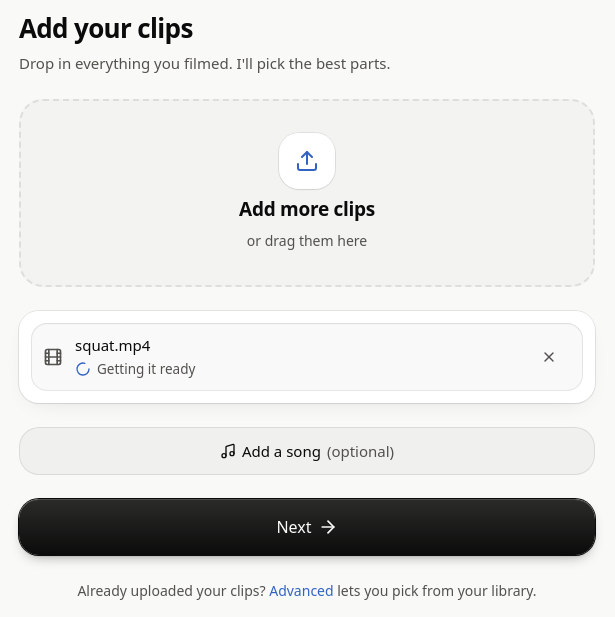
Test: with a learnt style, 'My usual style' says it follows the creator's own videos
Earlier steps of the test are not shown.
Click the button "Next" at x=307, y=526, box [19,498,595,554]
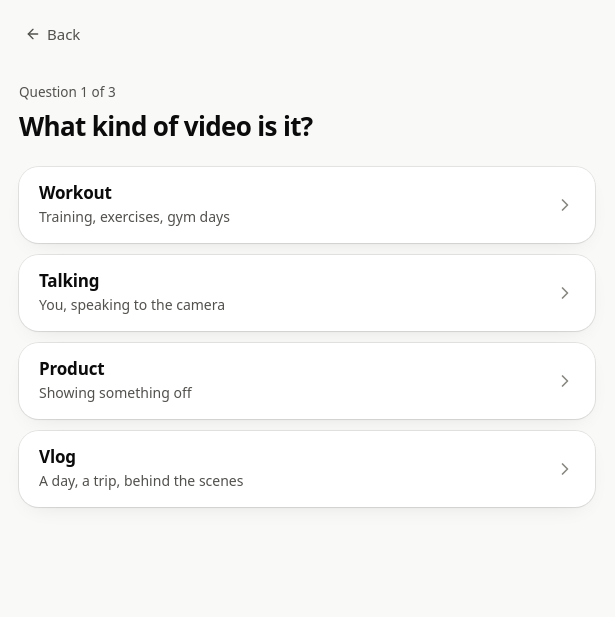
Click the button "Vlog A day, a trip, behind the scenes" at x=57, y=456, box [19,430,595,506]
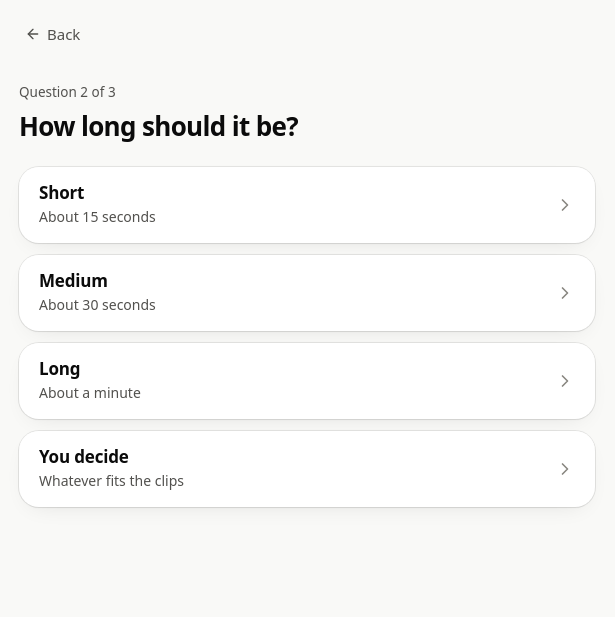
Click the button "You decide Whatever fits the clips" at x=84, y=456, box [19,430,595,506]
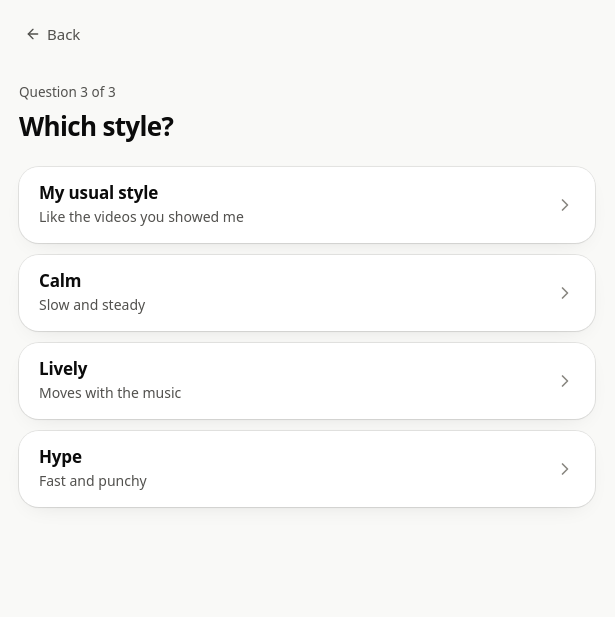
Expected: the button "My usual style Like the videos you showed me" is shown, [19,166,595,242]
